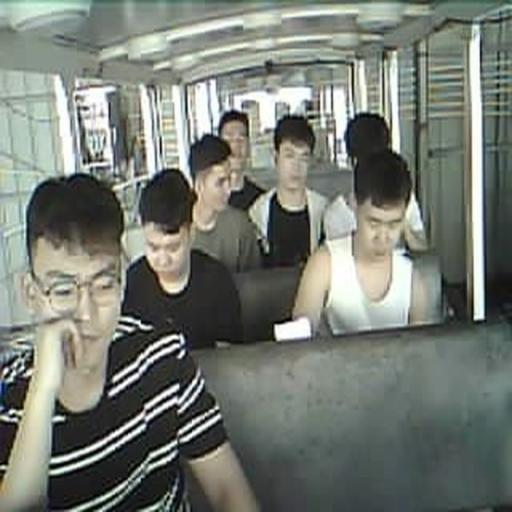persona: (0, 172, 262, 511), (291, 148, 448, 341), (120, 168, 244, 349), (324, 111, 430, 250), (247, 114, 331, 268), (187, 132, 264, 274), (217, 109, 268, 212)
